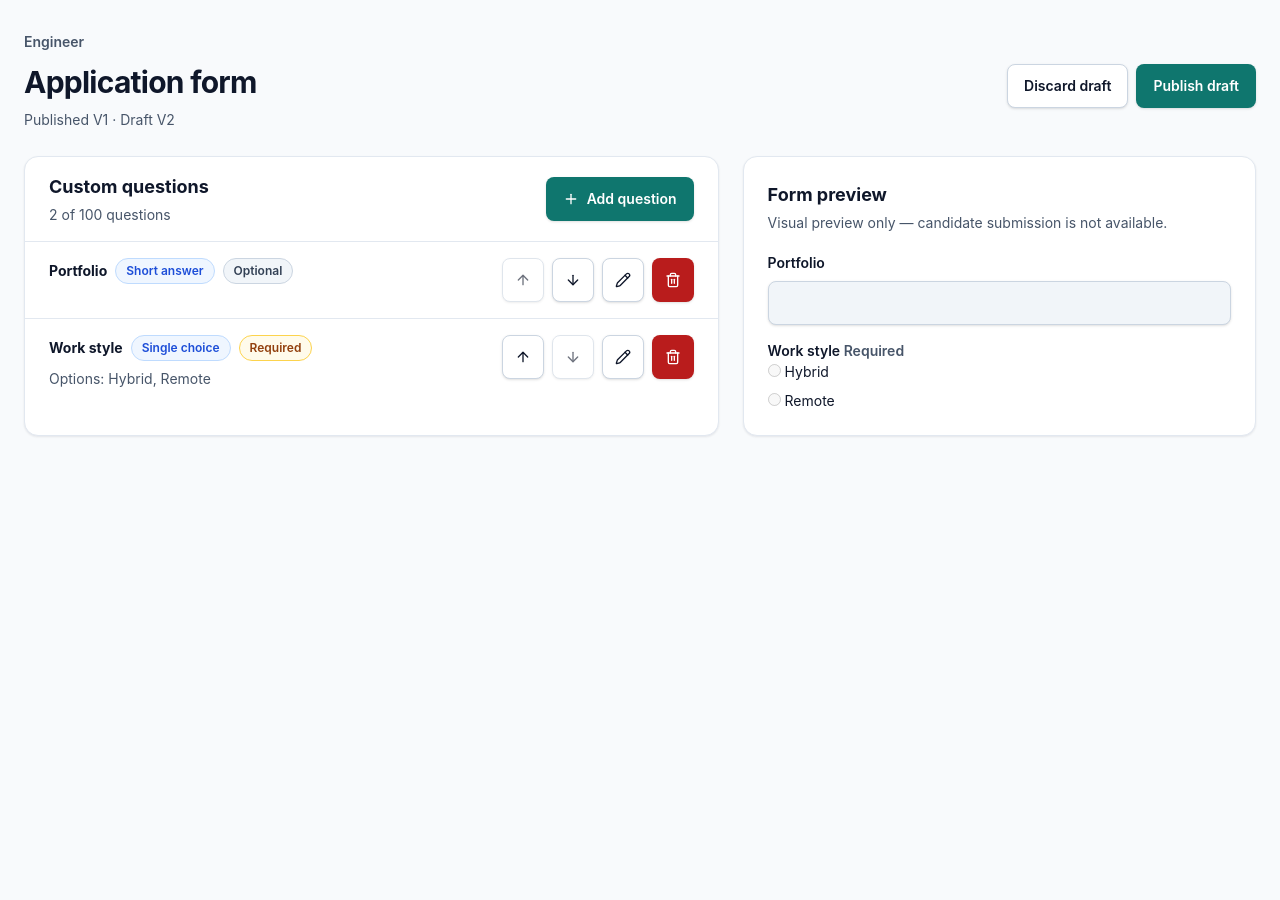
Test: Application Form Builder page › uses accessible delete and publish confirmations
Click the 2nd button named "Delete Portfolio" at [673, 280], box [652, 258, 694, 302]
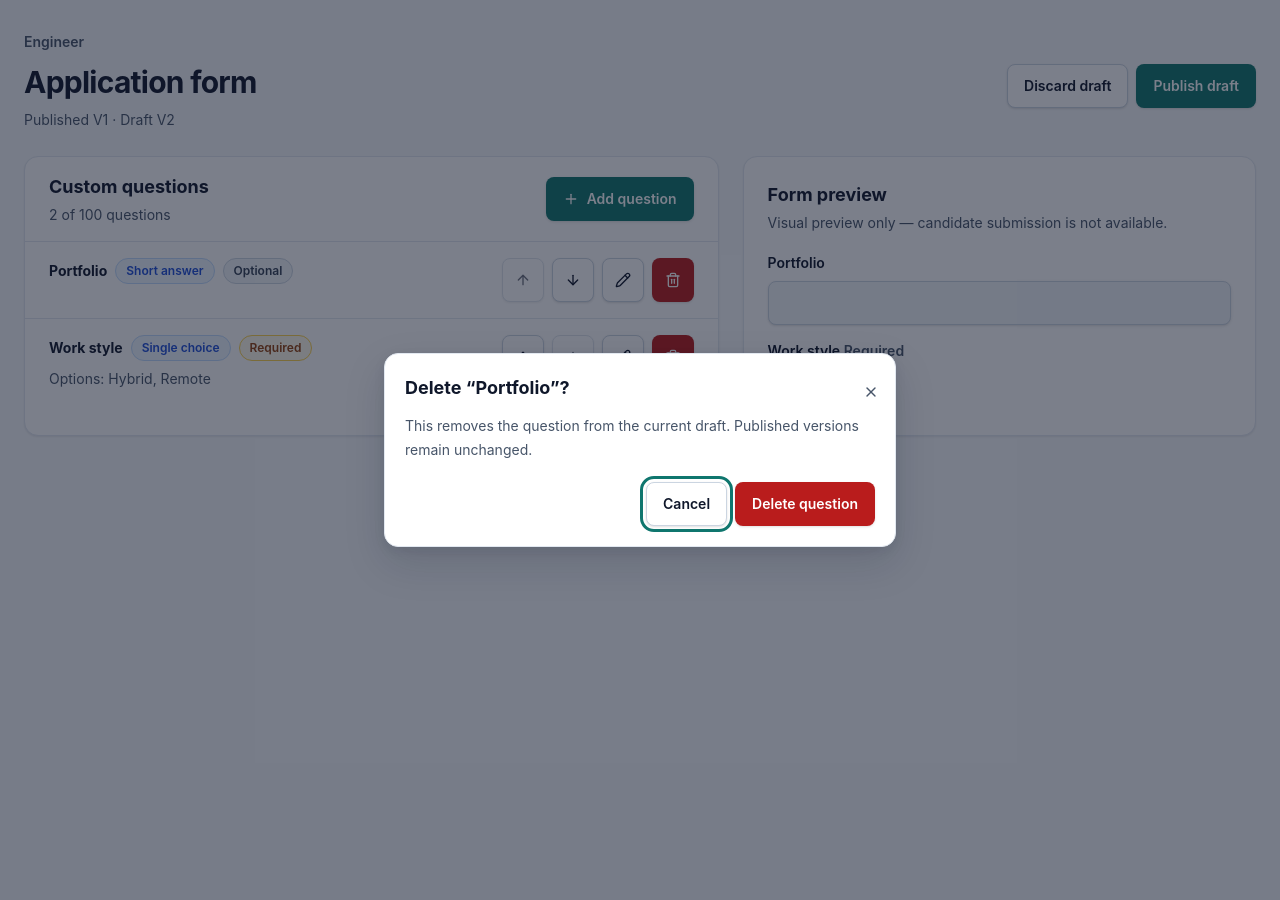
Expected: the dialog "Delete “Portfolio”?" is shown, [384, 353, 896, 547]
Click the button "Cancel" at [686, 504], box [646, 482, 727, 526]
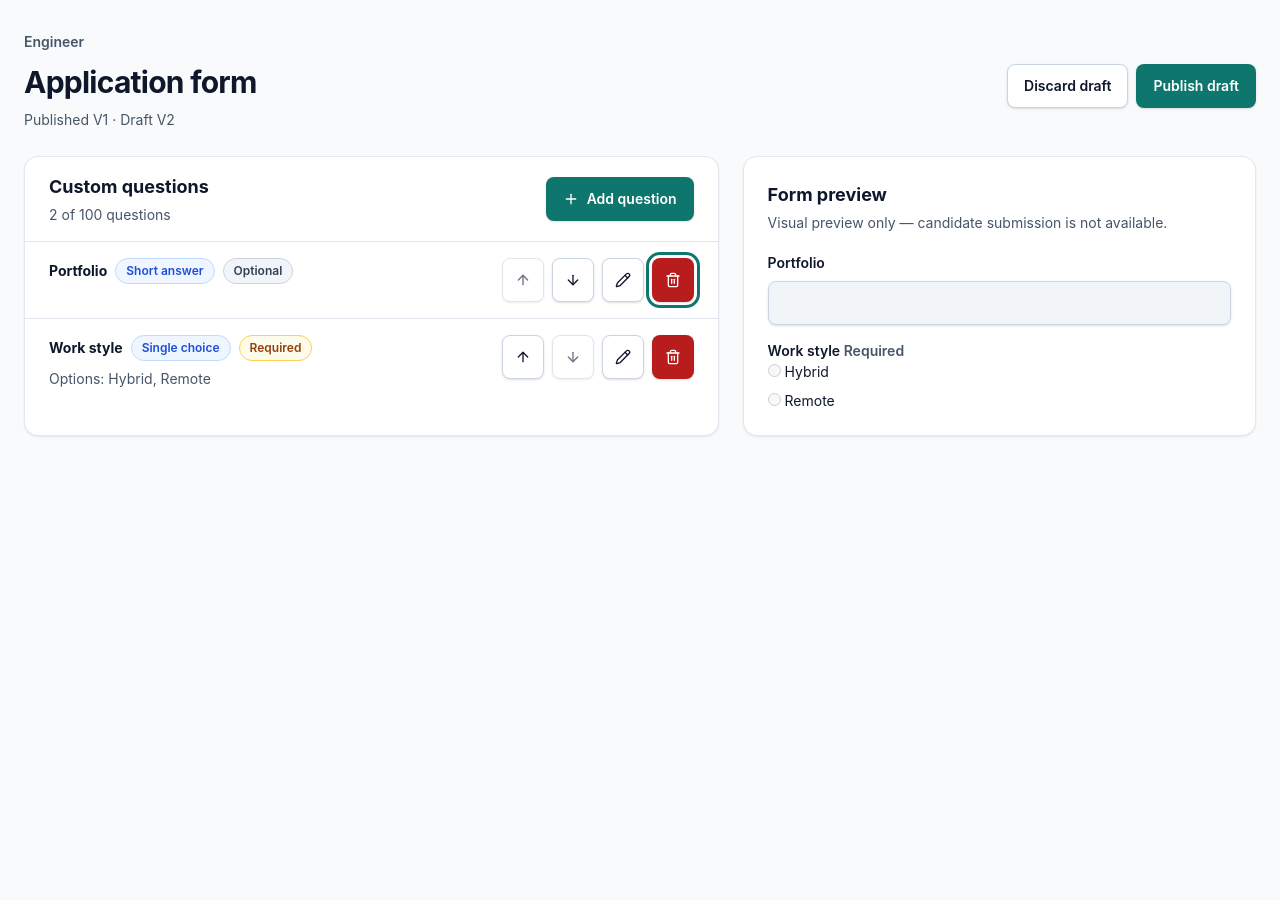
Click the button "Publish draft" at [1196, 86], box [1136, 64, 1256, 108]
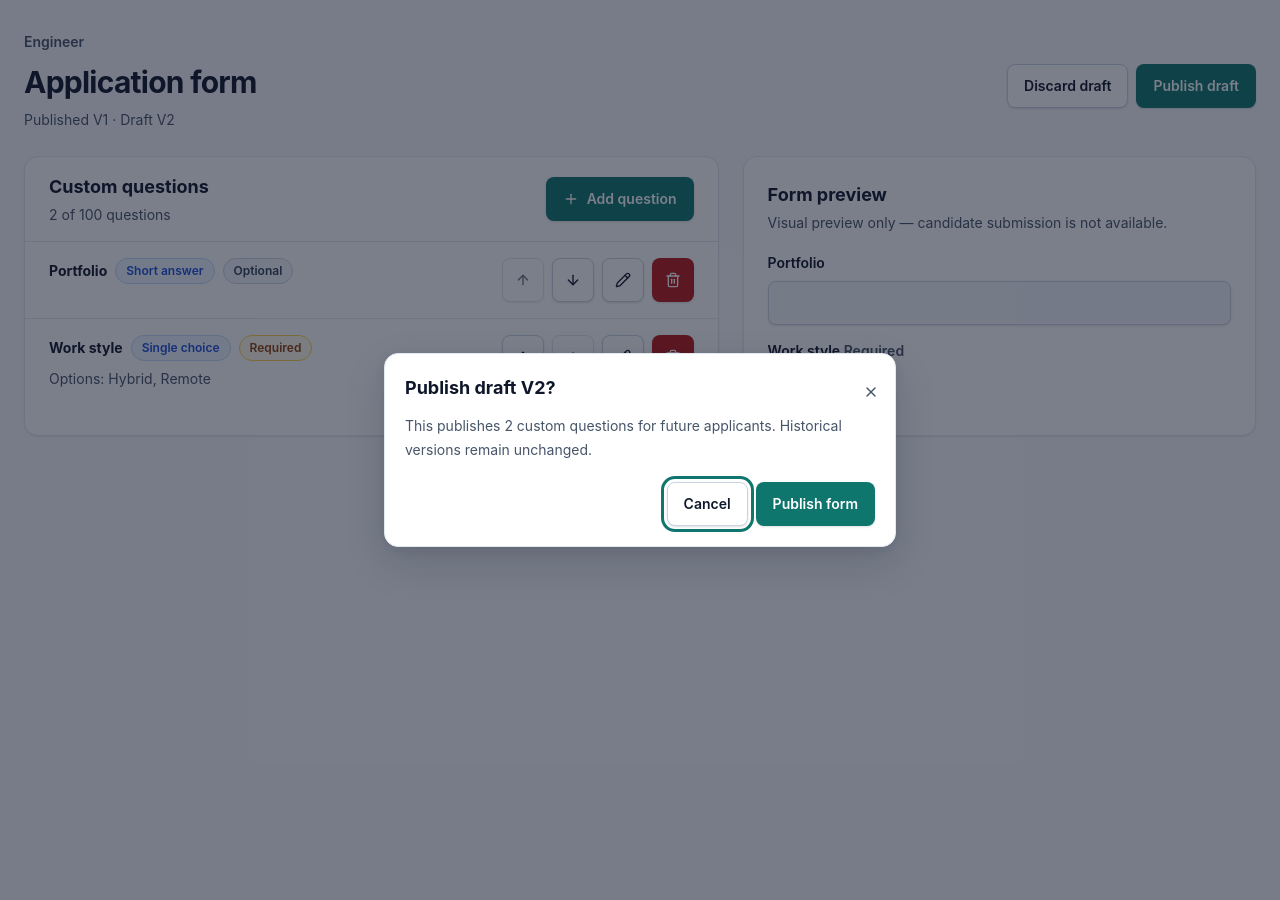
Expected: the dialog "Publish draft V2?" shows "2 custom questions", [405, 417, 842, 458]
